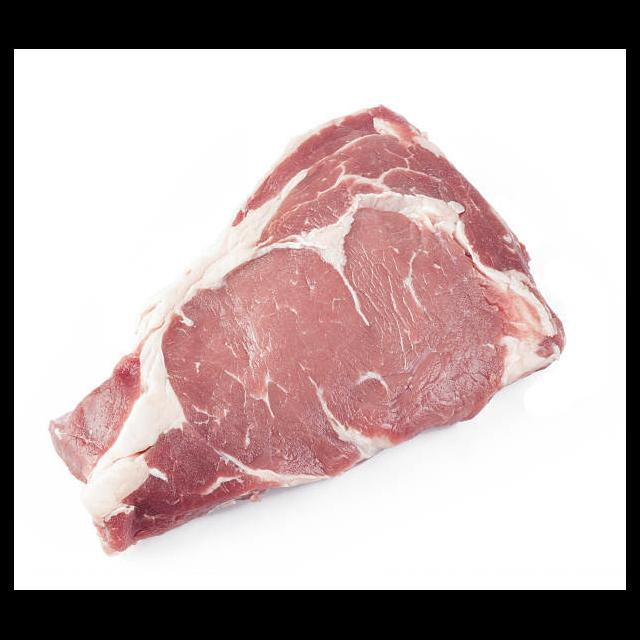beef: (45, 106, 566, 558)
